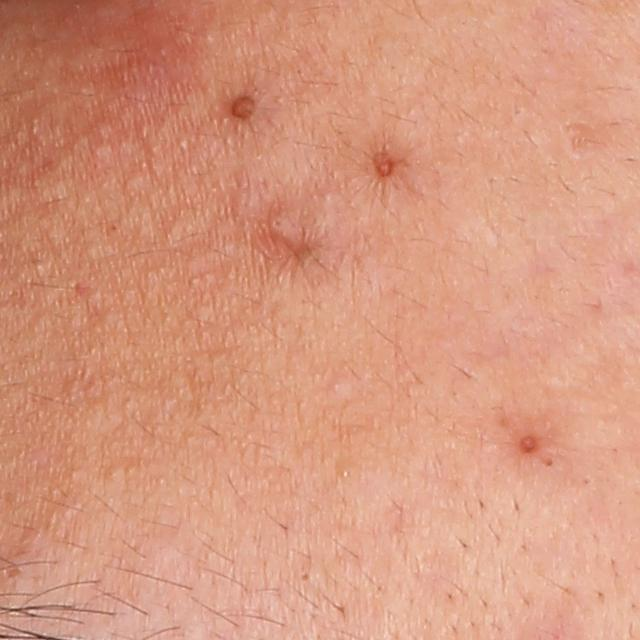atrophic_scar: (556, 115, 612, 162)
comedo: (519, 430, 542, 455), (104, 463, 126, 481), (338, 464, 354, 479), (297, 569, 312, 584)
